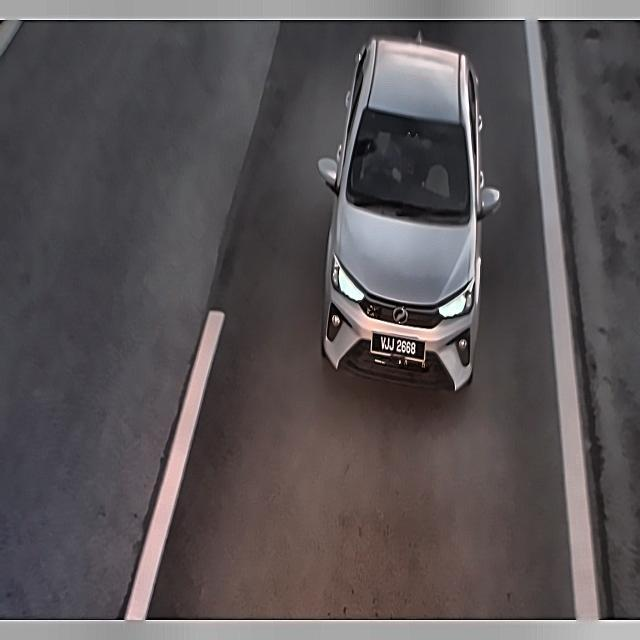car: (365, 327, 427, 367)
